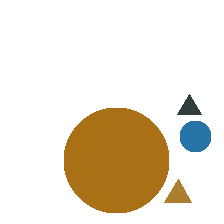circle: (64, 108, 168, 212), (180, 121, 210, 151)
triangle: (164, 179, 191, 202), (177, 94, 201, 114)
